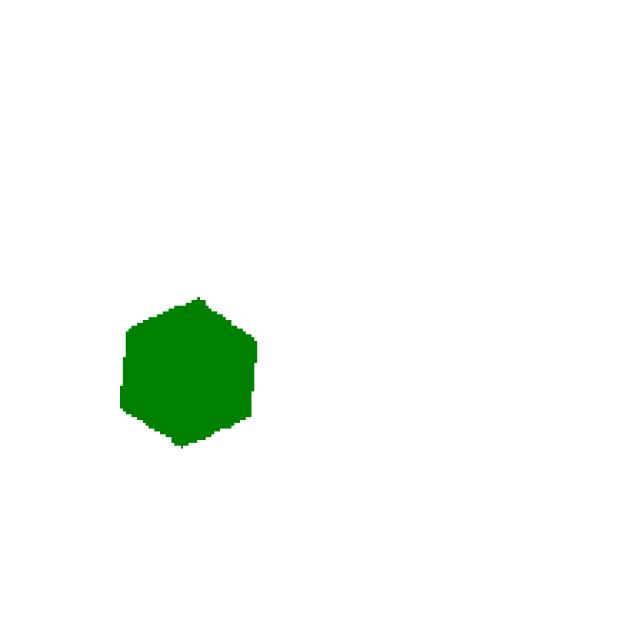Hexagon: (89, 284, 308, 464)
